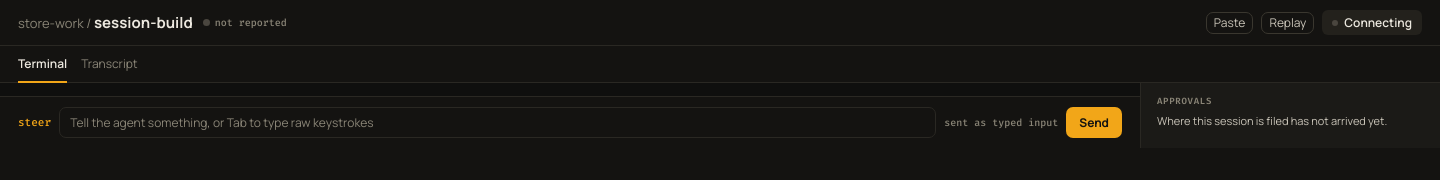
copy and paste in a pane › the paste control in the header › shows a refusal beside itself rather than swallowing it
Step 1. Click the button with aria-label "paste into the terminal" → (1230, 22), box [1206,12,1253,34]
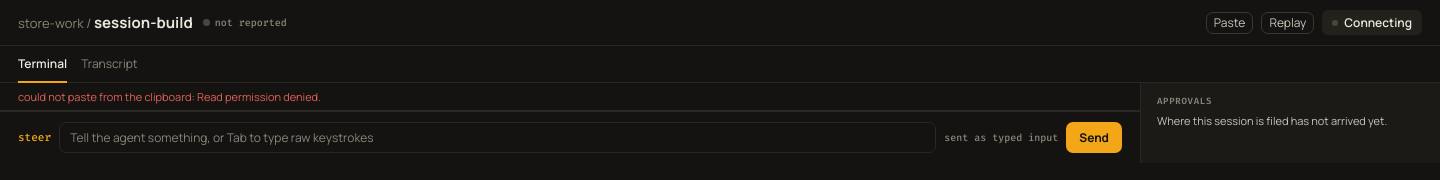
Result: the text "could not paste from the clipboard: Read permission denied." is shown at [0,83,1140,111]
